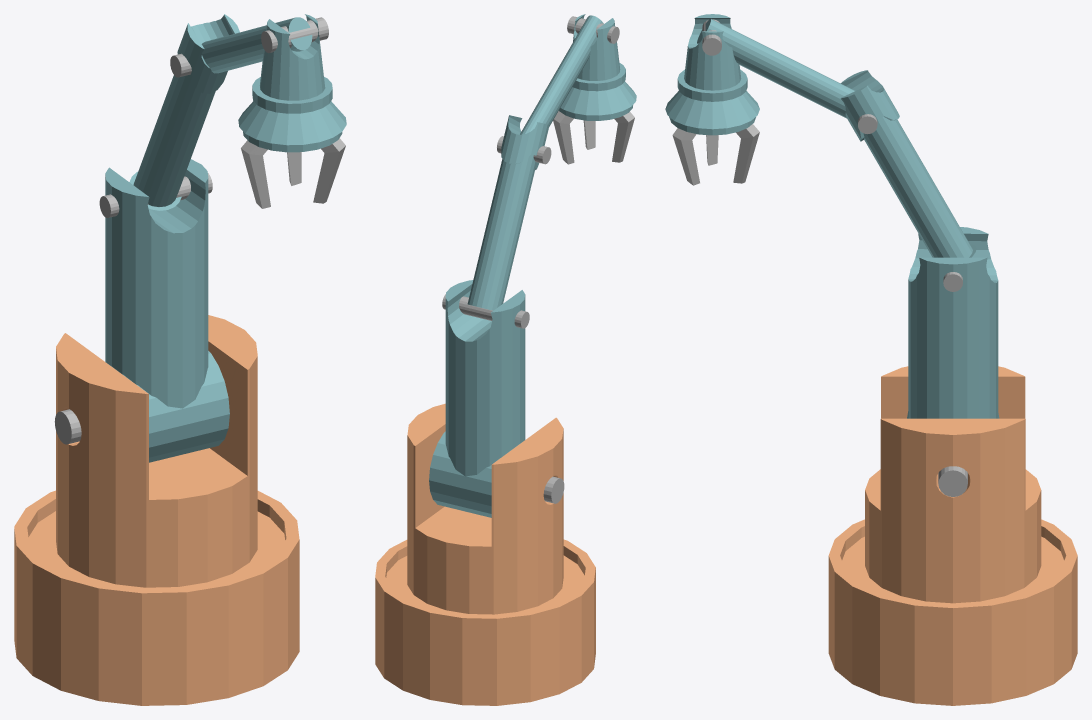
File: machine1.glb
The picture shows the model from 3 angles, left to right: view 1: azimuth 30°, elevation 25°; view 2: azimuth 150°, elevation 25°; view 3: azimuth 270°, elevation 25°; orthographic projection. The views are drawn at different scales.
Parts seen in each view (by area): view 1: pCylinder42_lambert65_0, pCylinder47_lambert64_0, pCylinder52_lambert64_0, pCylinder49_lambert64_0, pCylinder39, pCylinder45, pCube267, pCube269, pCylinder55, pCylinder41, pCylinder53; view 2: pCylinder42_lambert65_0, pCylinder47_lambert64_0, pCylinder49_lambert64_0, pCylinder52_lambert64_0, pCylinder39, pCylinder45, pCube268, pCylinder53, pCube267, pCylinder41, pCylinder55; view 3: pCylinder42_lambert65_0, pCylinder47_lambert64_0, pCylinder49_lambert64_0, pCylinder52_lambert64_0, pCylinder45, pCube269, pCube268, pCylinder41.
Boxes of the visible parts, <box> form: pCylinder42_lambert65_0: <box>14,315,299,705</box>; pCylinder47_lambert64_0: <box>105,159,208,408</box>; pCylinder52_lambert64_0: <box>238,14,346,152</box>; pCylinder49_lambert64_0: <box>129,14,239,210</box>; pCylinder39: <box>106,351,229,462</box>; pCylinder45: <box>201,17,312,73</box>; pCube267: <box>241,140,270,208</box>; pCube269: <box>313,138,345,203</box>; pCylinder55: <box>261,17,328,53</box>; pCylinder41: <box>54,409,81,444</box>; pCylinder53: <box>99,173,212,217</box>; pCylinder42_lambert65_0: <box>375,403,595,705</box>; pCylinder47_lambert64_0: <box>445,280,525,476</box>; pCylinder49_lambert64_0: <box>467,115,549,310</box>; pCylinder52_lambert64_0: <box>559,14,636,120</box>; pCylinder39: <box>429,431,521,517</box>; pCylinder45: <box>520,15,603,134</box>; pCube268: <box>553,111,574,164</box>; pCylinder53: <box>442,294,529,328</box>; pCube267: <box>612,111,634,162</box>; pCylinder41: <box>543,476,564,503</box>; pCylinder55: <box>567,16,619,43</box>; pCylinder42_lambert65_0: <box>828,366,1077,705</box>; pCylinder47_lambert64_0: <box>908,227,998,418</box>; pCylinder49_lambert64_0: <box>840,70,976,257</box>; pCylinder52_lambert64_0: <box>665,14,759,135</box>; pCylinder45: <box>697,18,854,118</box>; pCube269: <box>672,128,699,185</box>; pCube268: <box>733,124,759,183</box>; pCylinder41: <box>938,466,967,496</box>.
Bounding box in the file's own units: 5.26 × 14.77 × 8.71.
